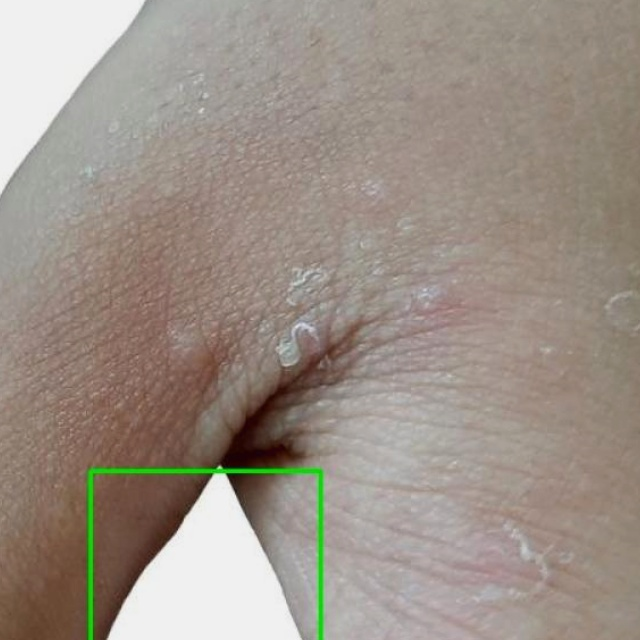Scabies: (90, 470, 320, 639)
